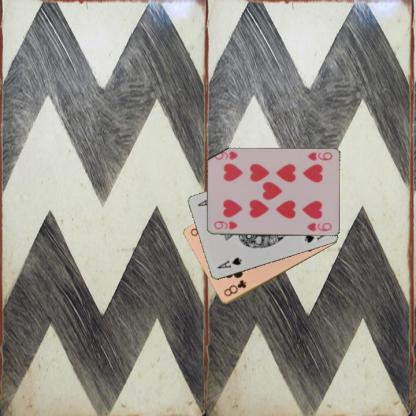8c: (222, 277, 248, 298)
9h: (304, 150, 333, 162), (211, 219, 238, 230)
As: (215, 255, 243, 270)
